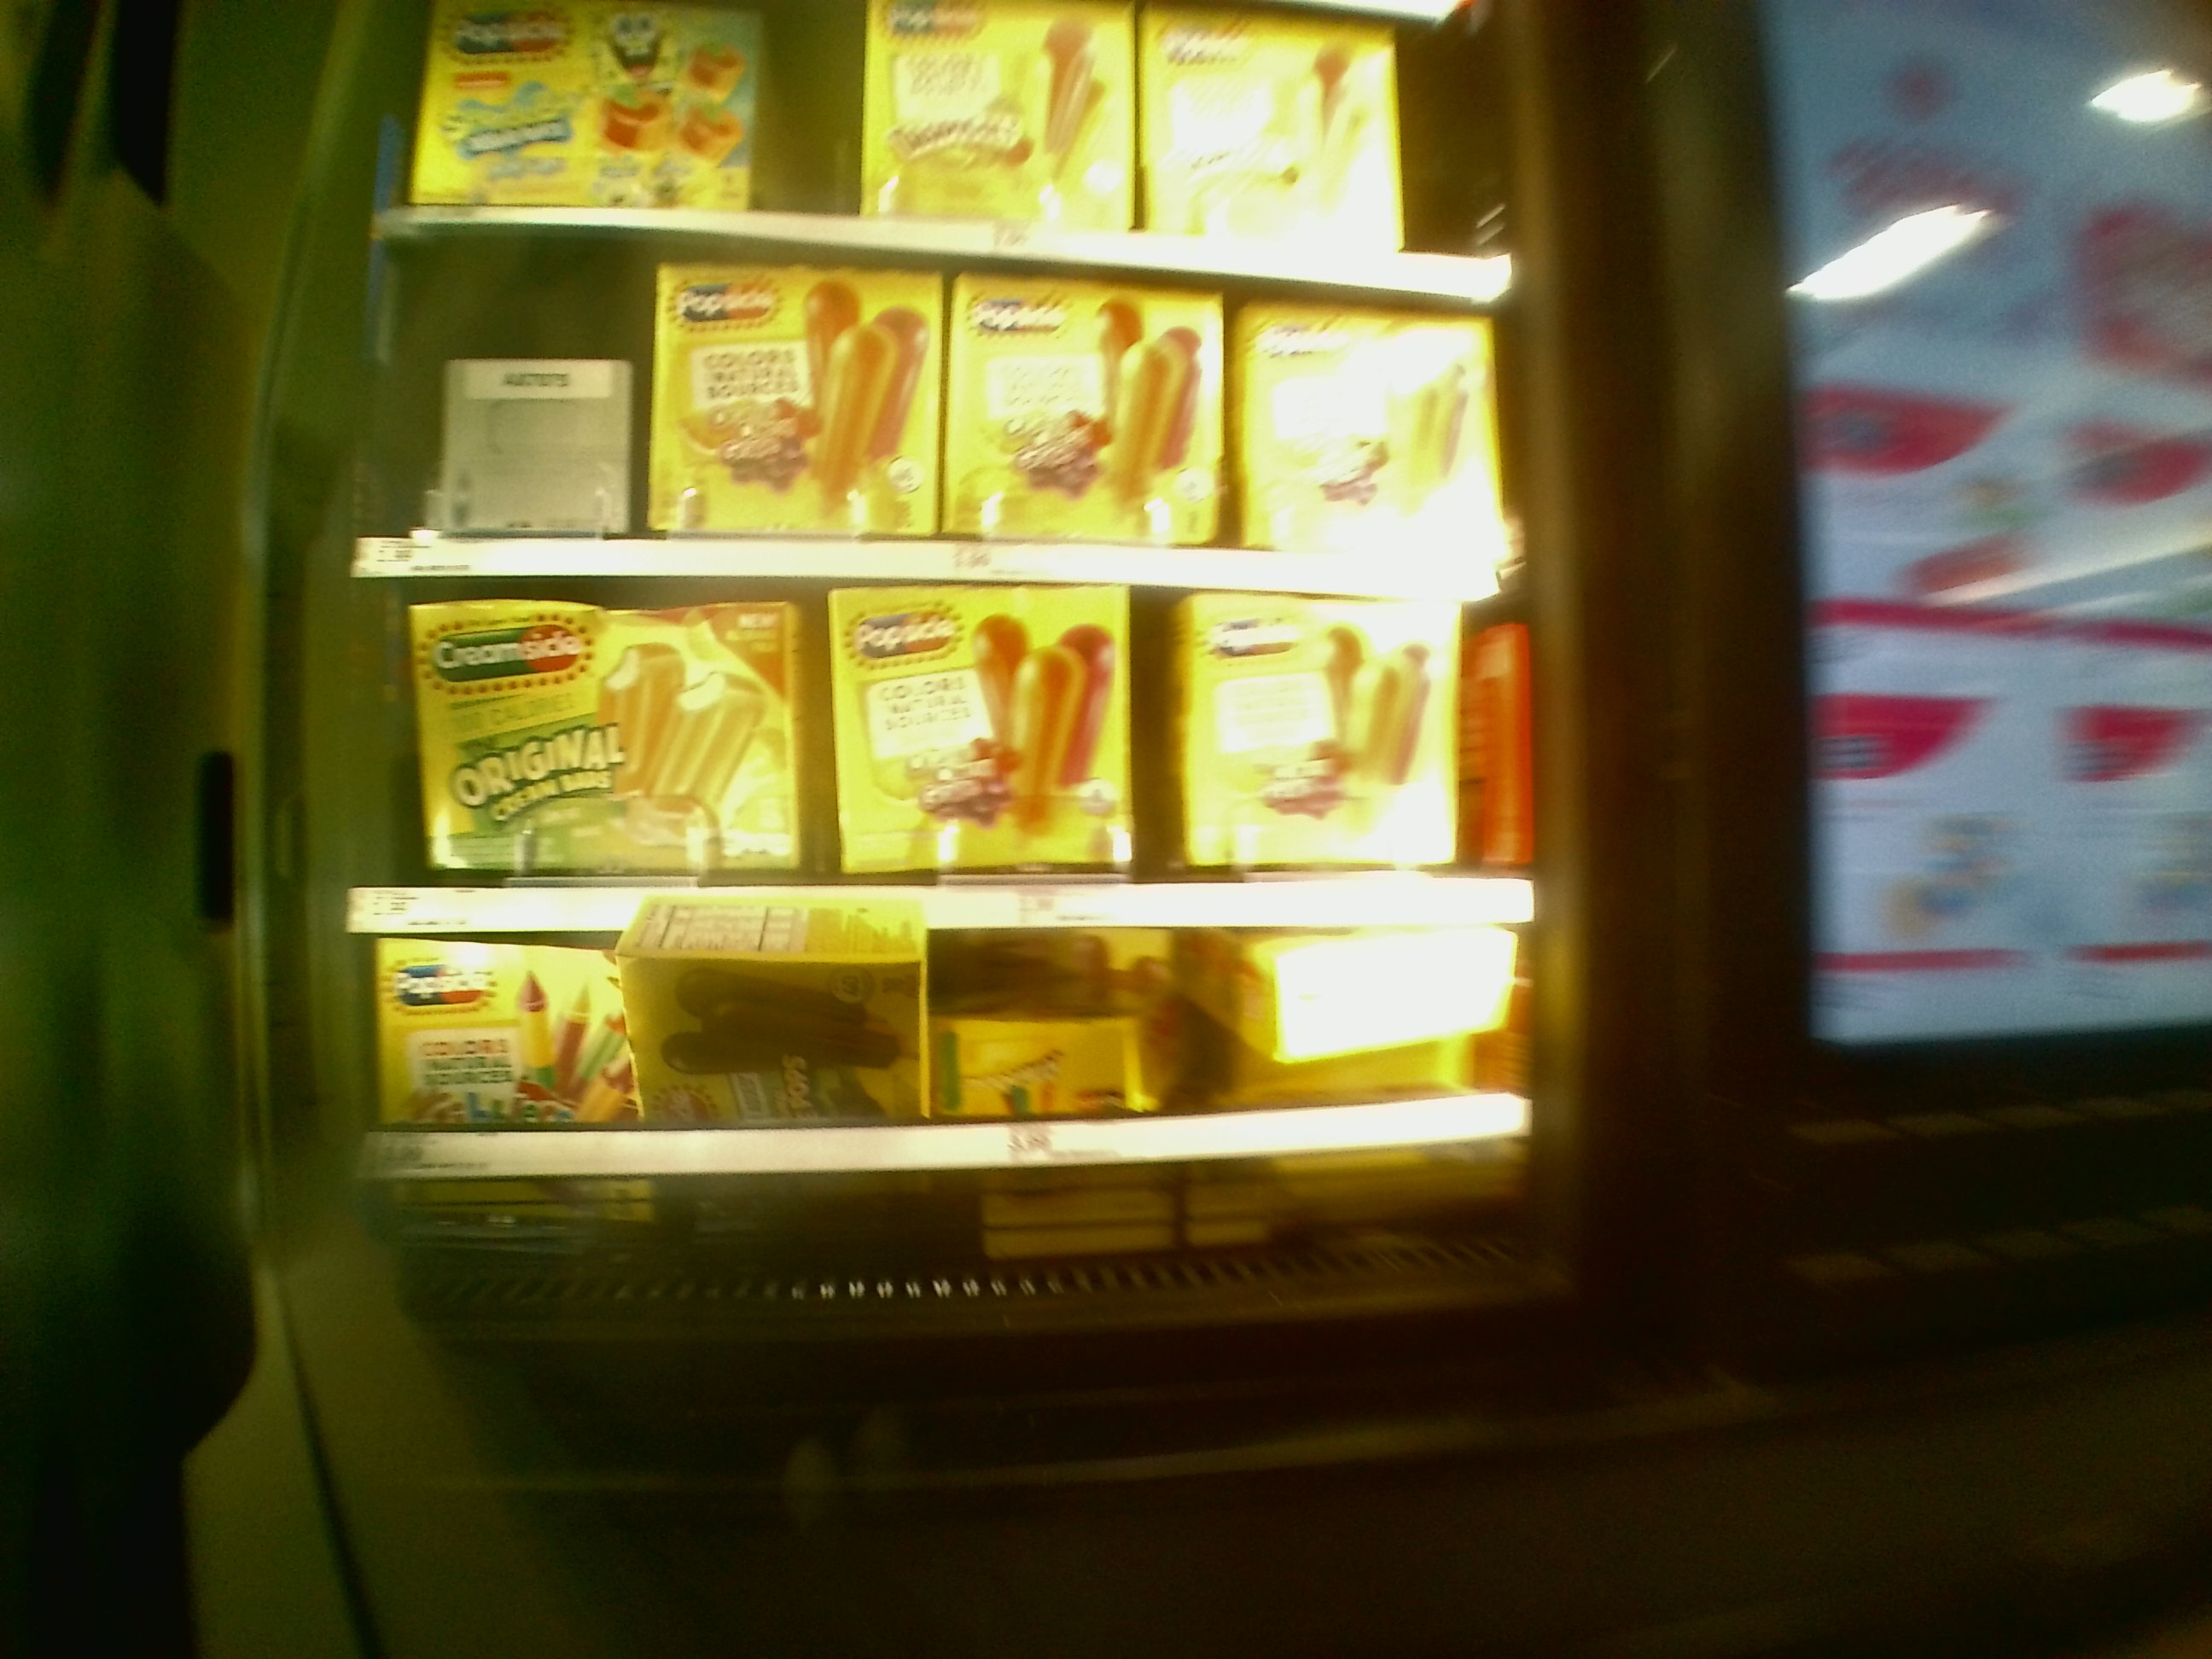frozen-food-shelf: (329, 573, 1541, 938), (329, 943, 1554, 1178)
